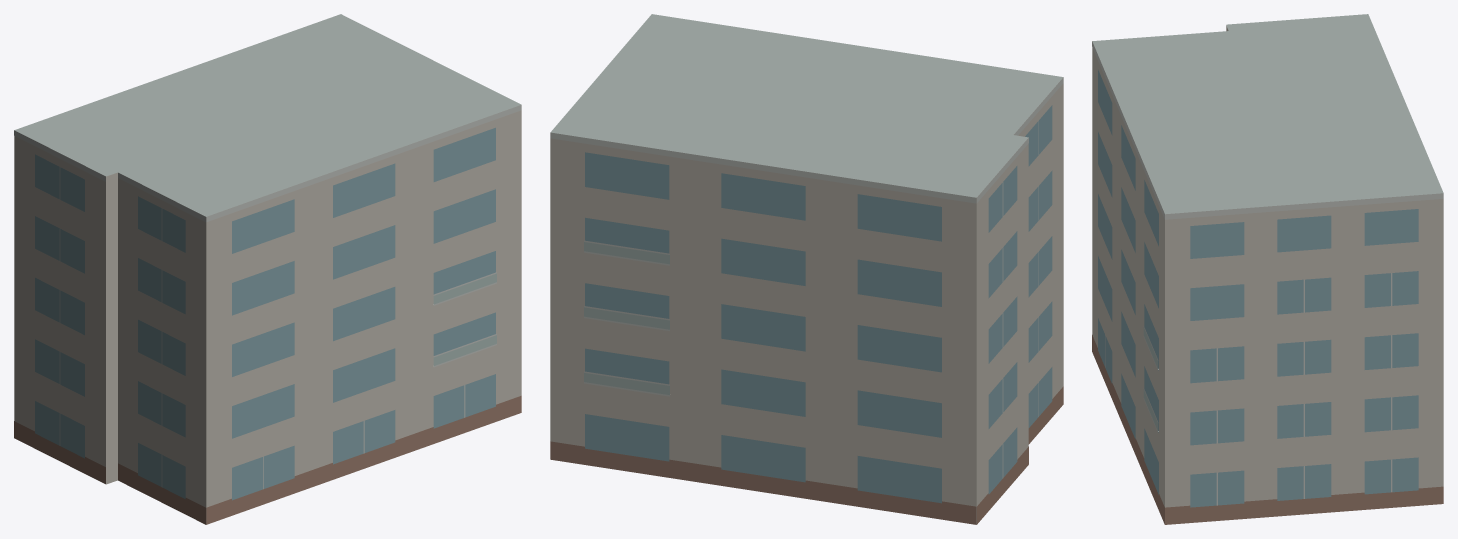
File: survey-upis-32706226.glb
3 views of the same model, side by side, from view 1: azimuth 30°, elevation 25°; view 2: azimuth 150°, elevation 25°; view 3: azimuth 270°, elevation 25° (orthographic). The views are drawn at different scales.
Visible parts, largest first — view 1: survey-upis-32706226.tmp; view 2: survey-upis-32706226.tmp; view 3: survey-upis-32706226.tmp.
Part boxes in pixels (left/top/right/bottom): survey-upis-32706226.tmp: left=14, top=14, right=521, bottom=524; survey-upis-32706226.tmp: left=550, top=14, right=1063, bottom=524; survey-upis-32706226.tmp: left=1092, top=14, right=1443, bottom=524.
Bounding box in the file's own units: 18.94 × 13.7 × 14.06.
